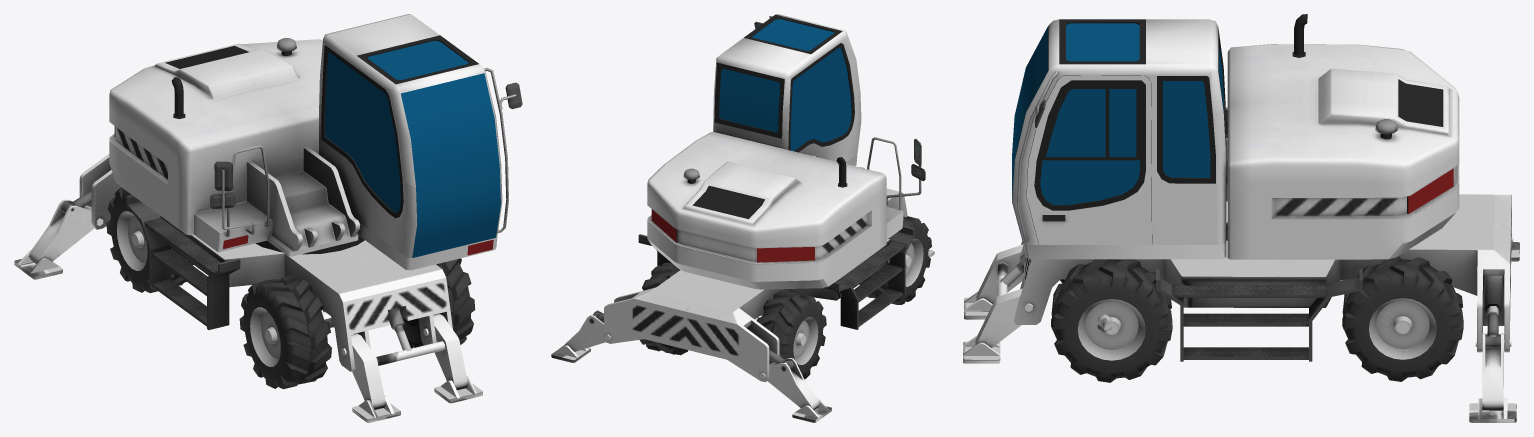
The model's file is Car17.fbx.
3 renders of one model, left to right at view 1: azimuth 30°, elevation 25°; view 2: azimuth 150°, elevation 25°; view 3: azimuth 270°, elevation 25°, orthographic. The views are drawn at different scales.
Parts seen in each view (by area): view 1: Construction1_Top, Construction1fbx, Construction1_Window_F, Construction1_Cabin_Top, Construction1_Window_R, Tire_1, Construction1_Stairs_R, Construction1_Cabin_Bot, Construction1_Window_T, Tire_3, Tire, Metal_1 (+4 smaller); view 2: Construction1_Top, Construction1fbx, Construction1_Cabin_Top, Construction1_Window_R, Construction1_Stairs_R, Construction1_Window_Rear, Tire, Construction1_Cabin_Bot, Construction1_Window_T, Tire_1, Metal, Tire_2 (+2 smaller); view 3: Construction1_Top, Construction1fbx, Construction1_Door, Construction1_Cabin_Top, Construction1_Window_FL, Tire_3, Tire_2, Construction1_Stairs_L, Construction1_Cabin_Bot, Construction1_Window_RL, Metal_2, Metal_3 (+4 smaller).
Boxes of the visible parts, x1,y1,x2,y2 form: Construction1_Top: (109,38,497,270); Construction1fbx: (14,154,482,422); Construction1_Window_F: (401,73,500,257); Construction1_Cabin_Top: (319,14,500,186); Construction1_Window_R: (325,52,400,212); Tire_1: (239,274,331,389); Construction1_Stairs_R: (126,195,240,329); Construction1_Cabin_Bot: (319,111,502,257); Construction1_Window_T: (367,40,468,79); Tire_3: (394,258,475,348); Tire: (106,187,193,293); Metal_1: (250,307,280,366); Construction1_Top: (647,132,903,289); Construction1fbx: (551,188,934,422); Construction1_Cabin_Top: (713,14,860,139); Construction1_Window_R: (790,47,851,151); Construction1_Stairs_R: (824,226,914,329); Construction1_Window_Rear: (719,68,780,132); Tire: (757,290,826,379); Construction1_Cabin_Bot: (713,92,861,161); Construction1_Window_T: (752,19,833,50); Tire_1: (859,216,931,304); Metal: (793,316,818,364); Tire_2: (639,262,688,355); Construction1_Top: (1023,14,1459,259); Construction1fbx: (963,194,1519,422); Construction1_Door: (1026,75,1151,244); Construction1_Cabin_Top: (1014,19,1225,176); Construction1_Window_FL: (1040,89,1139,204); Tire_3: (1051,259,1172,382); Tire_2: (1342,256,1463,381); Construction1_Stairs_L: (1156,269,1362,361); Construction1_Cabin_Bot: (1012,99,1226,244); Construction1_Window_RL: (1163,81,1210,177); Metal_2: (1369,298,1436,359); Metal_3: (1078,299,1145,360).
Size of the model in its own units: 468 by 399 by 622.
